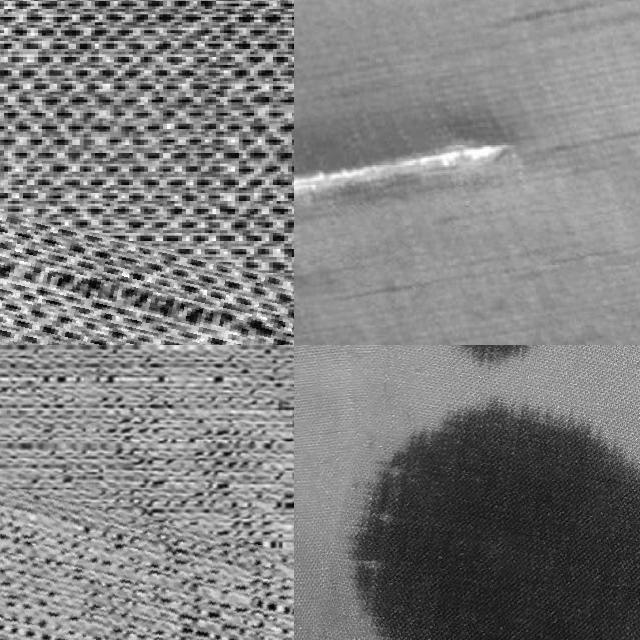Thread_other: (318, 345, 640, 640)
other: (294, 104, 542, 249)
stains: (0, 453, 294, 640), (0, 225, 294, 345)
